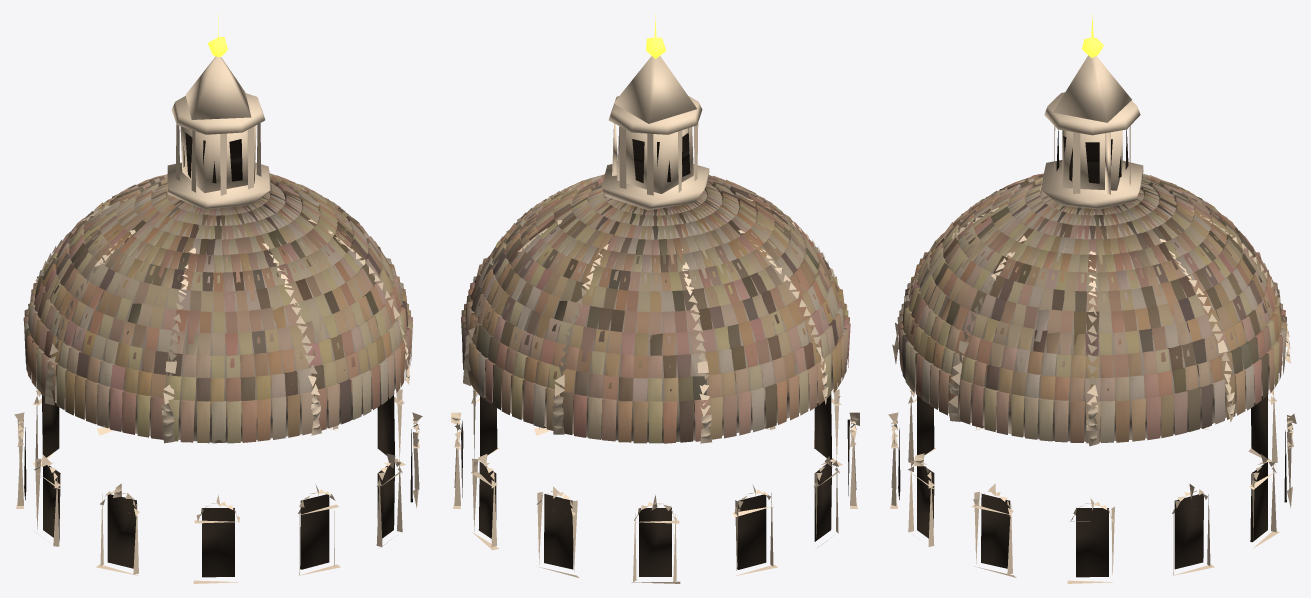
The model's file is dome_w3_lod2.glb.
3 renders of one model, left to right at view 1: azimuth 30°, elevation 25°; view 2: azimuth 150°, elevation 25°; view 3: azimuth 270°, elevation 25°, orthographic.
Visible parts, largest first — view 1: LODTMP; view 2: LODTMP; view 3: LODTMP.
Boxes of the visible parts, left/top/right/bottom form: LODTMP: left=14, top=14, right=422, bottom=583; LODTMP: left=451, top=14, right=859, bottom=583; LODTMP: left=888, top=14, right=1296, bottom=583.
Bounding box in the file's own units: 17.24 × 22.7 × 17.24.
4 materials, 1 textured.
